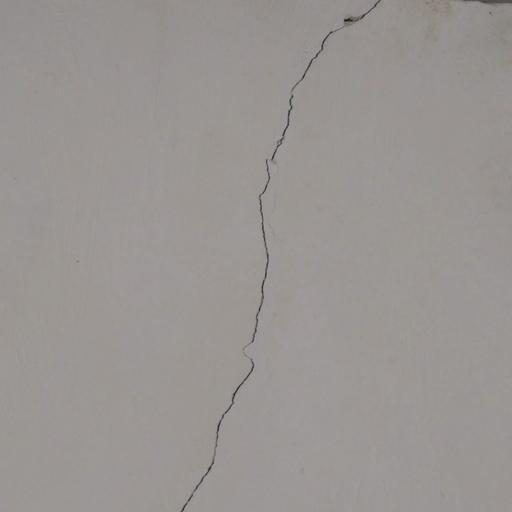major_crack: (175, 0, 392, 512)
